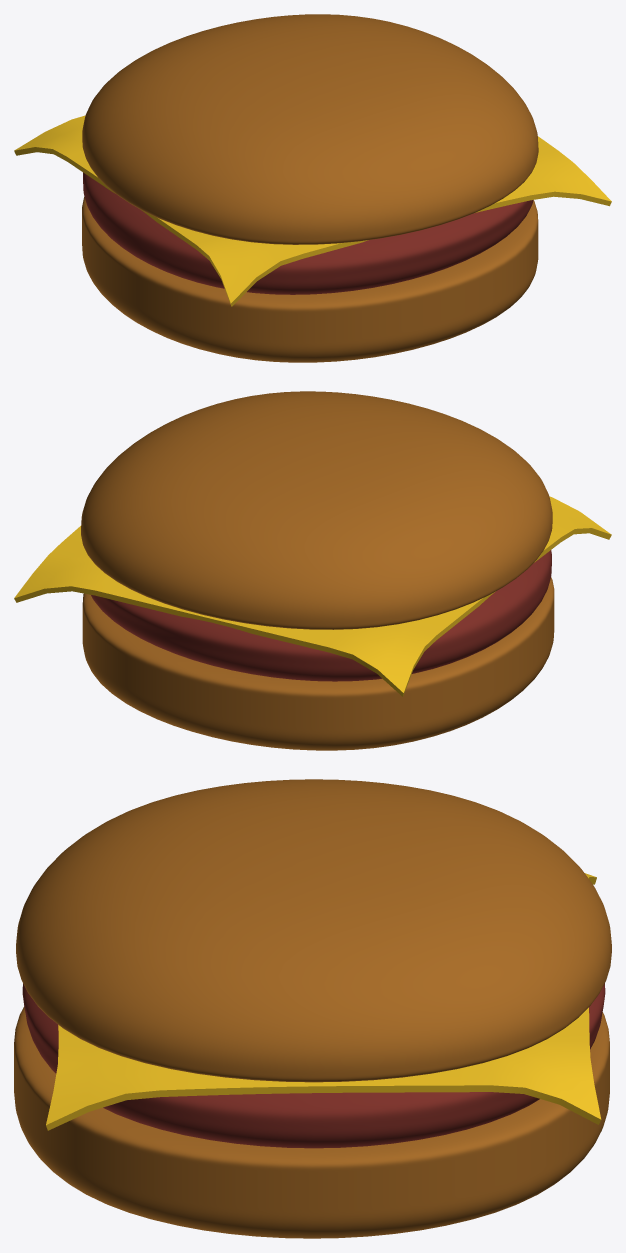
File: hamburger.glb
The picture shows the model from 3 angles, top to bottom: view 1: azimuth 30°, elevation 25°; view 2: azimuth 150°, elevation 25°; view 3: azimuth 270°, elevation 25°; orthographic projection. The views are drawn at different scales.
Parts seen in each view (by area): view 1: Cube.006, Cube.003, Cube.004, Plane; view 2: Cube.006, Cube.003, Cube.004, Plane; view 3: Cube.006, Cube.003, Cube.004, Plane.
Boxes of the visible parts, <box> form: Cube.006: <box>82,14,538,244</box>; Cube.003: <box>82,196,538,362</box>; Cube.004: <box>83,172,533,294</box>; Plane: <box>14,115,611,306</box>; Cube.006: <box>81,391,552,629</box>; Cube.003: <box>82,577,554,750</box>; Cube.004: <box>91,550,551,681</box>; Plane: <box>14,496,611,696</box>; Cube.006: <box>16,779,611,1082</box>; Cube.003: <box>14,1006,609,1238</box>; Cube.004: <box>22,983,605,1148</box>; Plane: <box>46,873,601,1130</box>.
Bounding box in the file's own units: 0.6286 × 0.3468 × 0.6172.
